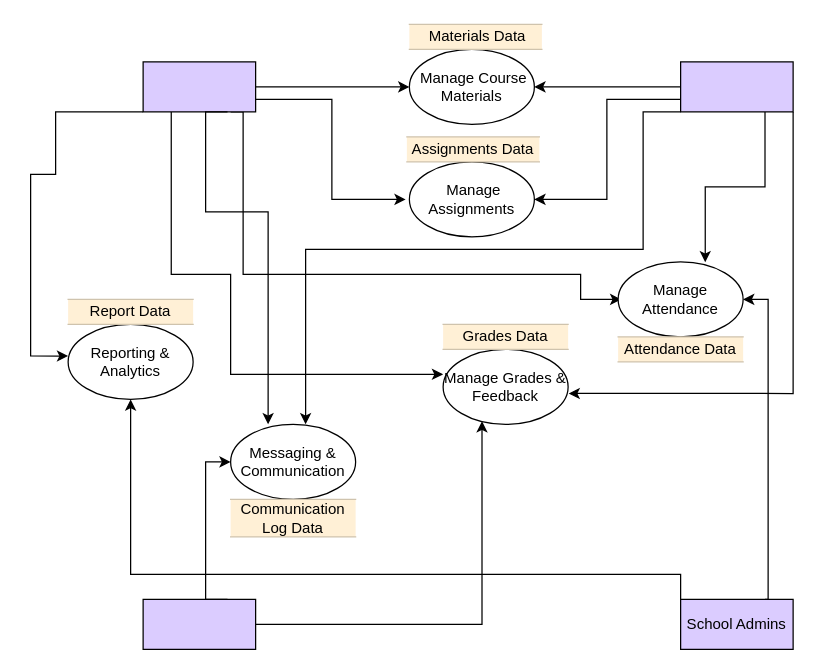
Image size: 825x671. Some labels were removed from this diagram. Each missing label, with the centre of its shape:
"Parents" belongs at point (199, 623).
"Pupils" belongs at point (736, 86).
"Teachers" belongs at point (199, 86).
